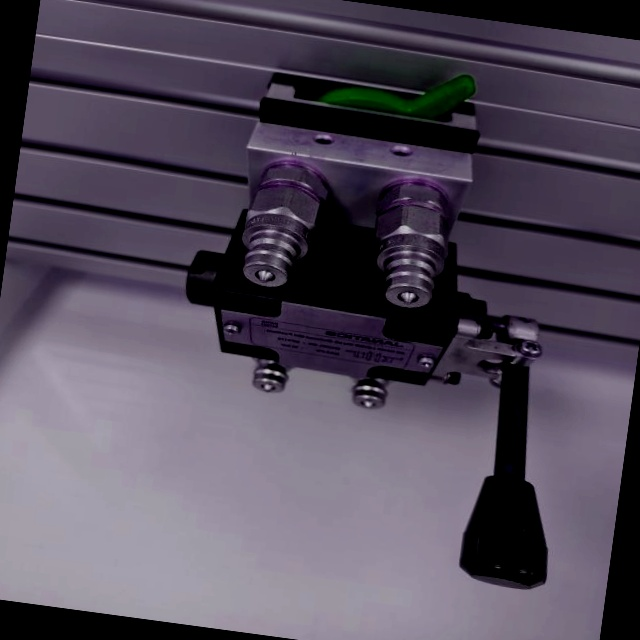4by3 hand lever valve: (143, 39, 612, 598)
